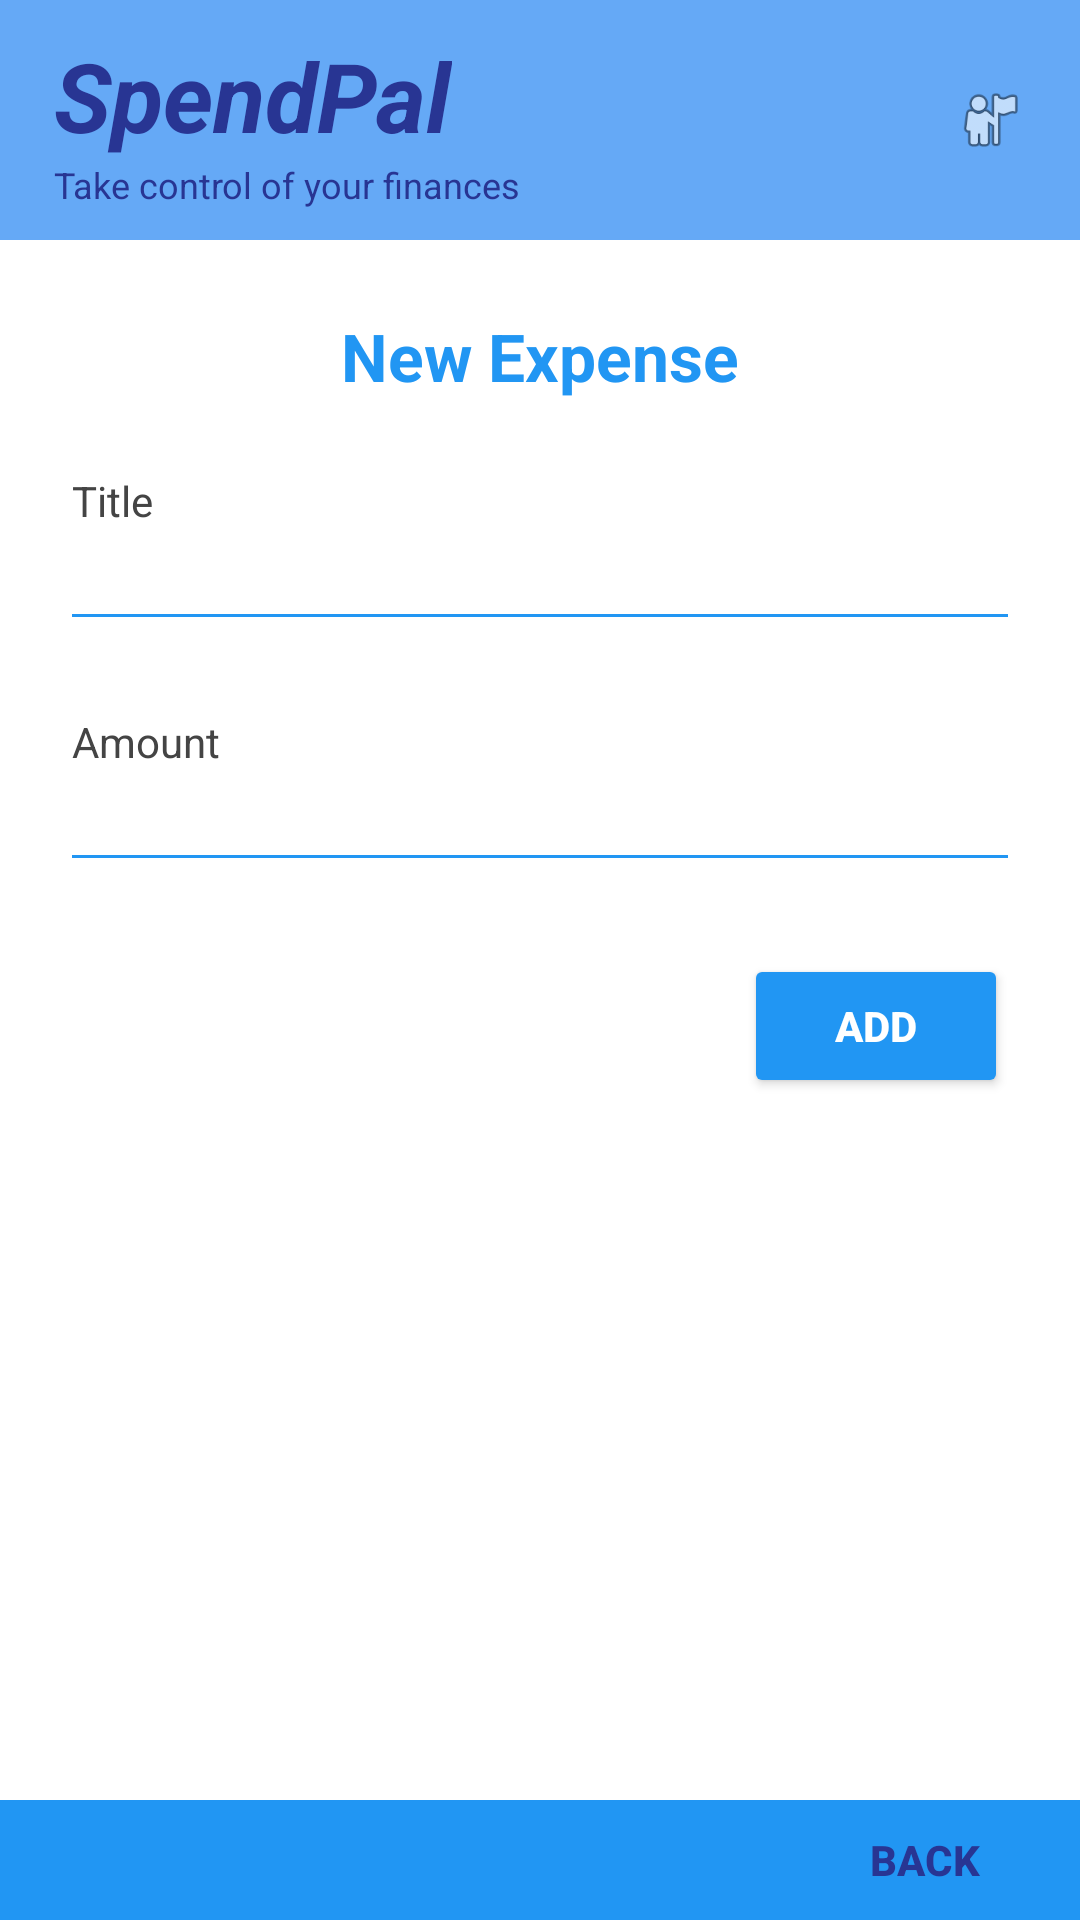

Where to tap for icons on this 1080*1920 app screen, as (x=x, y=y):
Profile: (x=991, y=120)
